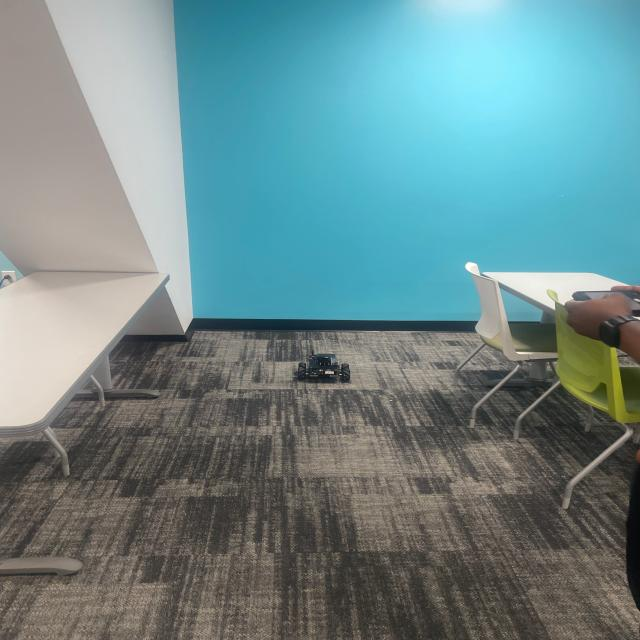ArduinoCar: (290, 351, 354, 389)
